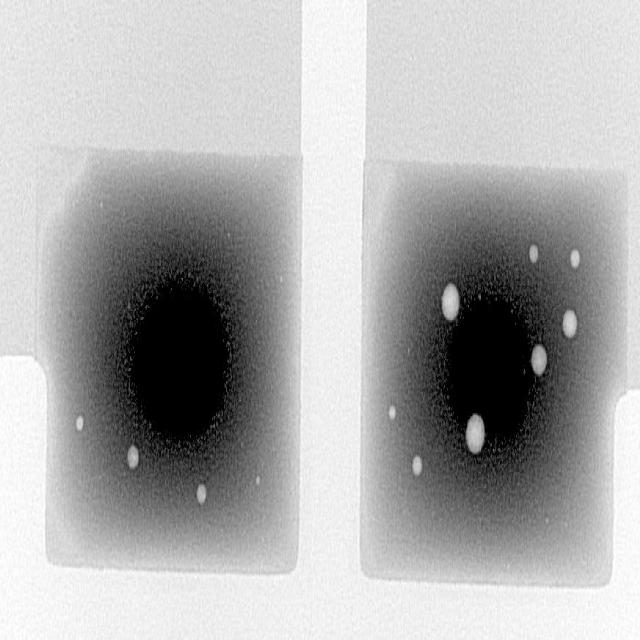component: (361, 161, 628, 584), (36, 150, 301, 572)
void: (466, 413, 486, 453), (443, 282, 461, 321), (532, 344, 548, 376), (564, 308, 578, 337), (127, 445, 139, 469), (196, 484, 206, 504), (413, 455, 423, 475), (530, 243, 540, 262), (572, 249, 581, 267), (389, 404, 397, 420), (76, 416, 83, 430), (256, 475, 261, 485)
